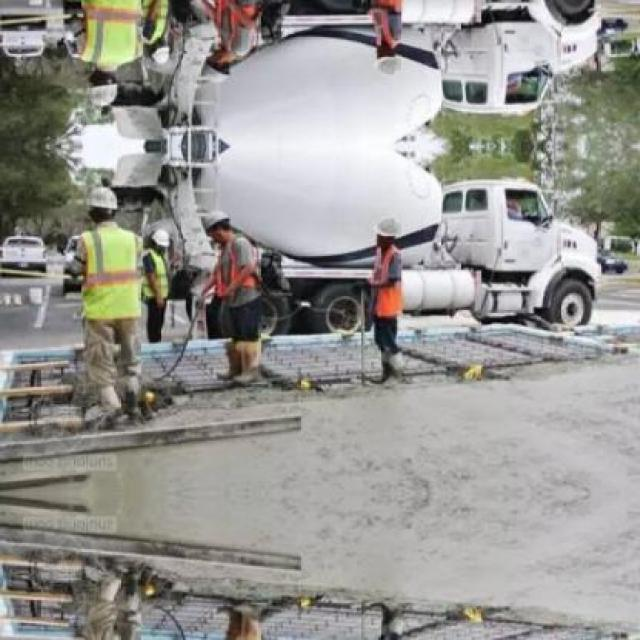Reflective-Jacket: (65, 225, 152, 339), (203, 233, 266, 313), (360, 246, 414, 326), (137, 248, 177, 310)
Safety-Helmet: (80, 182, 126, 221), (366, 210, 409, 247), (197, 204, 237, 238), (146, 224, 177, 253)
